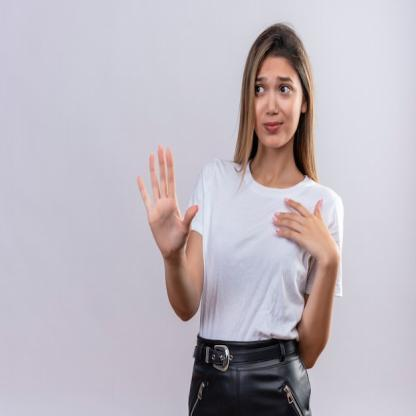stop: (134, 140, 202, 258)
